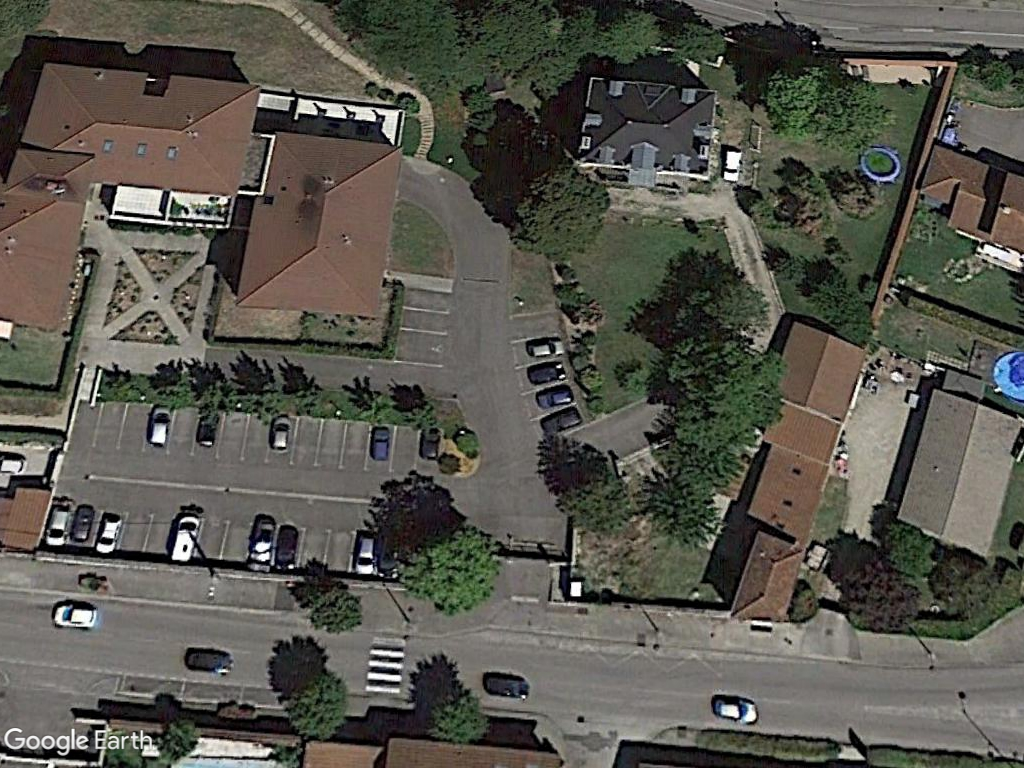car: (479, 667, 536, 702), (707, 691, 763, 725), (181, 644, 238, 676), (48, 599, 102, 630), (97, 505, 124, 560), (520, 334, 571, 360), (368, 419, 394, 466), (268, 409, 293, 456), (148, 402, 172, 450), (532, 385, 578, 410)
van: (171, 503, 200, 567)
